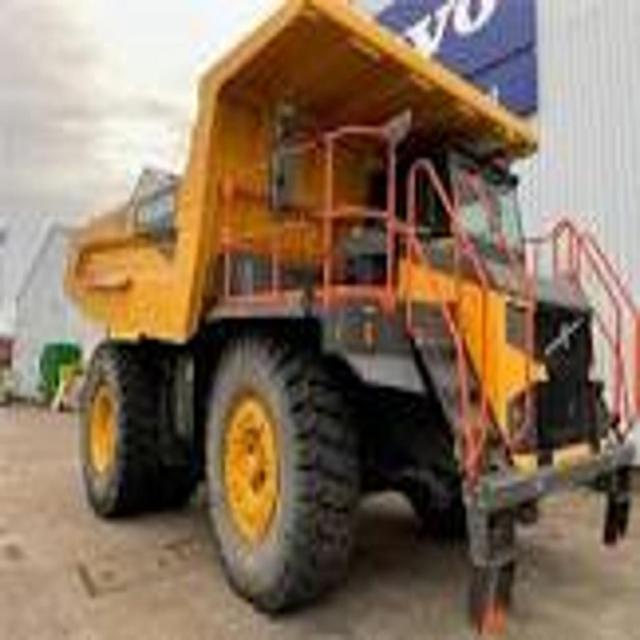dump_truck: (61, 1, 640, 618)
